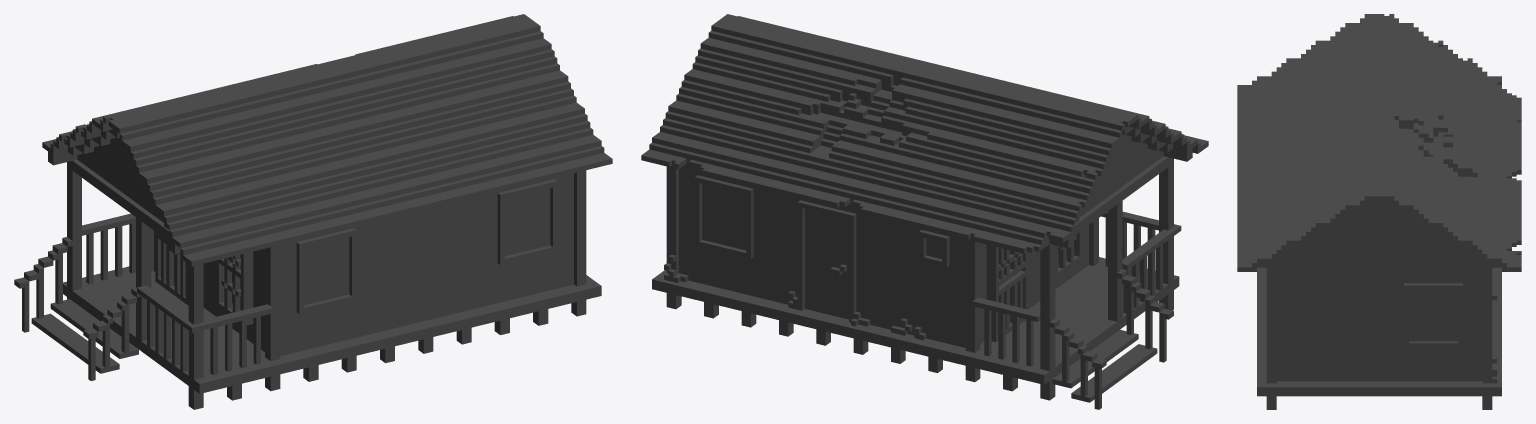
The model's file is house.obj.
The picture shows the model from 3 angles, left to right: view 1: azimuth 30°, elevation 25°; view 2: azimuth 150°, elevation 25°; view 3: azimuth 270°, elevation 25°; orthographic projection. The views are drawn at different scales.
Size of the model in its own units: 9.5 by 4.9 by 5.8.
